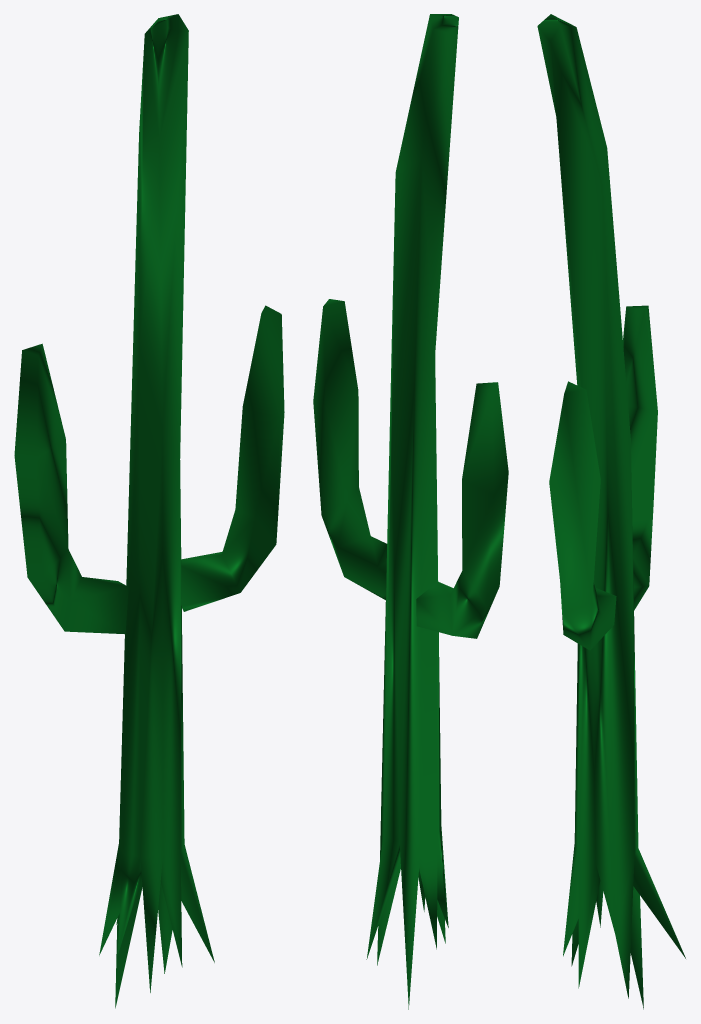
The model's file is SeguaroCactusLarge2_LOD2.obj.
3 renders of one model, left to right at view 1: azimuth 30°, elevation 25°; view 2: azimuth 150°, elevation 25°; view 3: azimuth 270°, elevation 25°, orthographic. The views are drawn at different scales.
Visible parts, largest first — view 1: SeguaroCactusLarge2_LOD2; view 2: SeguaroCactusLarge2_LOD2; view 3: SeguaroCactusLarge2_LOD2.
Boxes of the visible parts, x1,y1,x2,y2 form: SeguaroCactusLarge2_LOD2: (14, 14, 284, 1008); SeguaroCactusLarge2_LOD2: (313, 14, 508, 1009); SeguaroCactusLarge2_LOD2: (537, 14, 685, 1009).
Size of the model in its own units: 137 by 577 by 78.49.
